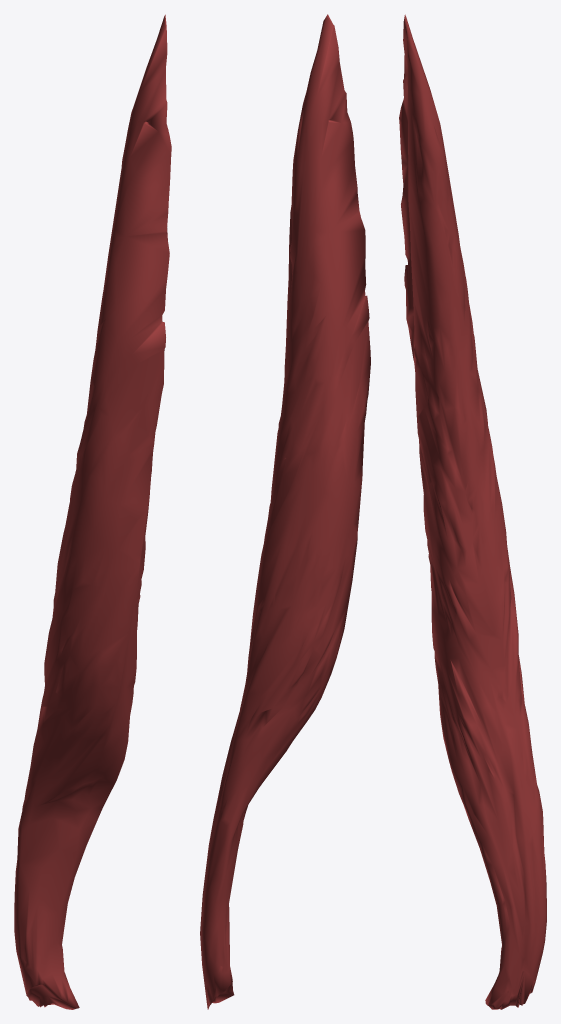
Rendered from short-head-of-biceps-femoris-l.glb.
The picture shows the model from 3 angles, left to right: view 1: azimuth 90°, elevation 25°; view 2: azimuth 150°, elevation 25°; view 3: azimuth 270°, elevation 25°; orthographic projection. The views are drawn at different scales.
Visible parts, largest first — view 1: Short head of biceps femoris.l; view 2: Short head of biceps femoris.l; view 3: Short head of biceps femoris.l.
Part boxes in pixels (x1=…): Short head of biceps femoris.l: x1=14, y1=14, x2=171, y2=1009; Short head of biceps femoris.l: x1=200, y1=14, x2=370, y2=1009; Short head of biceps femoris.l: x1=399, y1=14, x2=546, y2=1009.
Size of the model in its own units: 0.0369 by 0.3013 by 0.0419.
